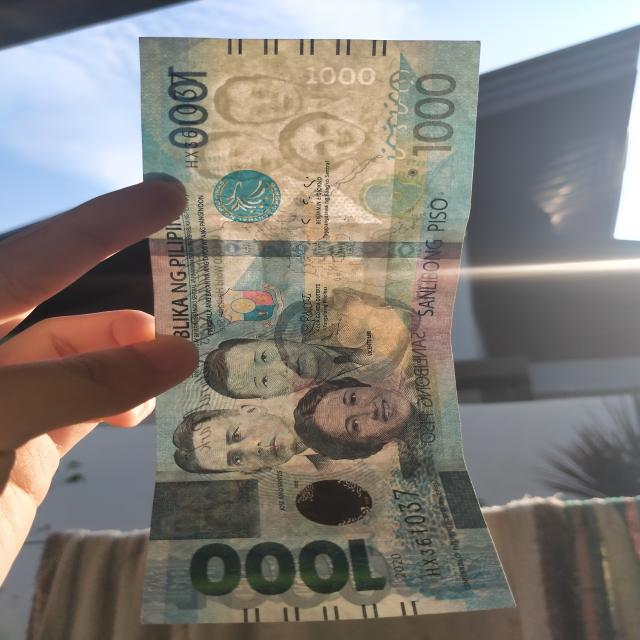concealed_value: (152, 478, 264, 540)
optically_variable_device: (274, 471, 393, 536)
see_through_mark: (374, 68, 415, 164)
value_watermark: (298, 63, 388, 88)
watermark: (195, 72, 380, 188)
